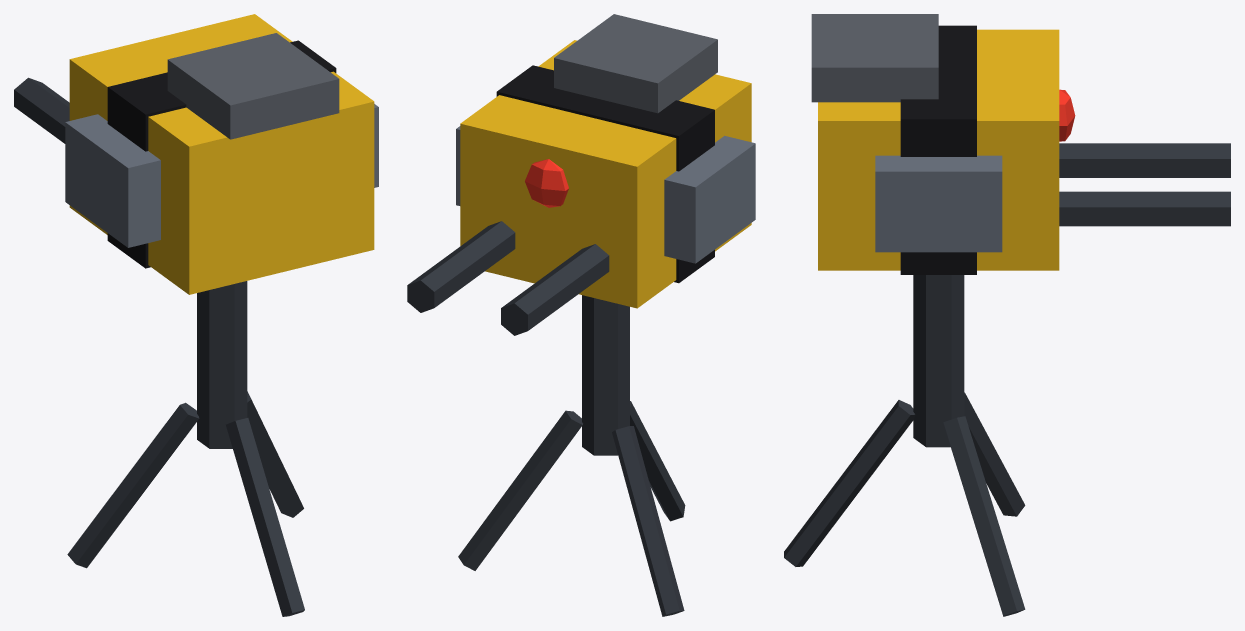
Rendered from enemy_turret.glb.
The picture shows the model from 3 angles, left to right: view 1: azimuth 30°, elevation 25°; view 2: azimuth 150°, elevation 25°; view 3: azimuth 270°, elevation 25°; orthographic projection. The views are drawn at different scales.
Parts seen in each view (by area): view 1: enemy_turret; view 2: enemy_turret; view 3: enemy_turret.
Part boxes in pixels (x1=…): enemy_turret: x1=14, y1=14, x2=378, y2=616; enemy_turret: x1=407, y1=14, x2=755, y2=616; enemy_turret: x1=784, y1=14, x2=1230, y2=616.
Bounding box in the file's own units: 0.46 × 0.9133 × 0.7037.
Materials: 1 (1 with a texture image).
